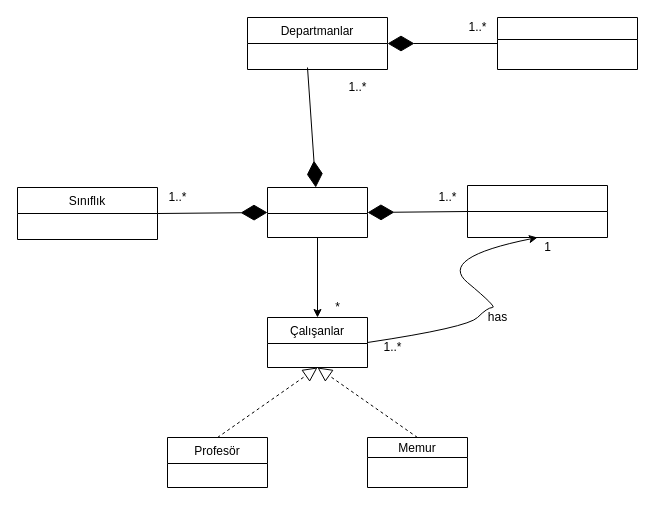
The diagram is 655 pixels wide and 505 high, and some of its shapes have lost their labels. Here are the shapes that lost their labels. From the top down, the centre of each, then its label:
the point at 567,43: DeoartmanOfisi
the point at 317,212: Üniversite
the point at 537,211: Çalışma Ofisleri
